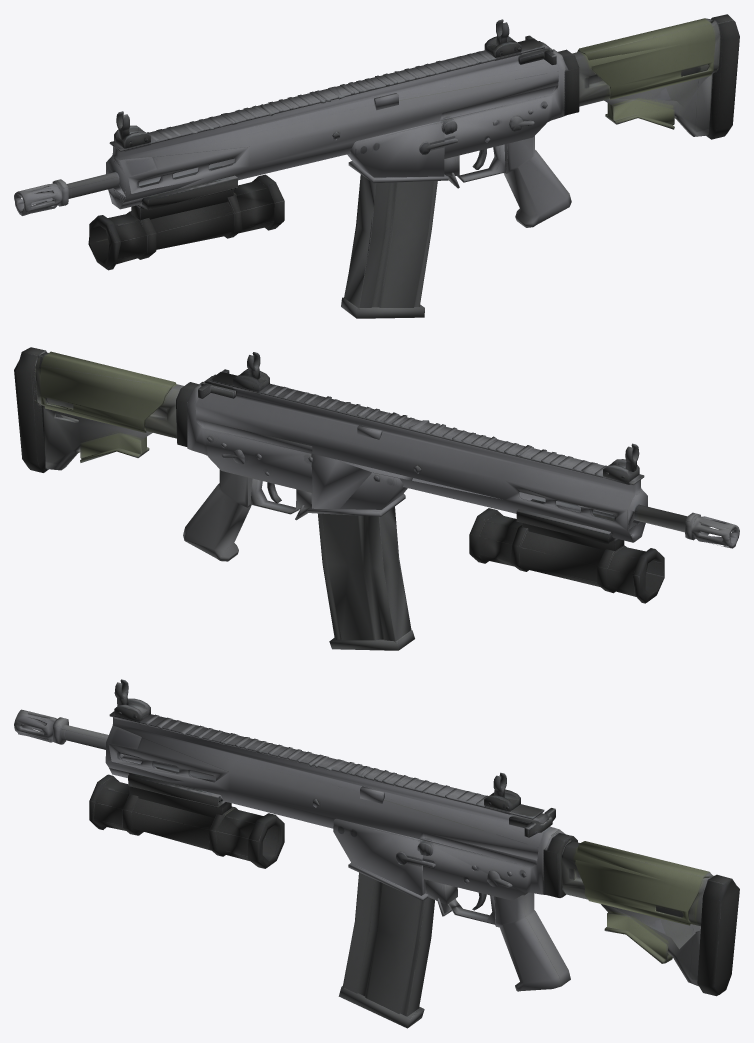
File: ar_marauder.glb
3 renders of one model, top to bottom at view 1: azimuth 30°, elevation 25°; view 2: azimuth 150°, elevation 25°; view 3: azimuth 330°, elevation 25°, orthographic.
Size of the model in its own units: 0.9575 by 0.3477 by 0.063.
Materials: 1 (1 with a texture image).
